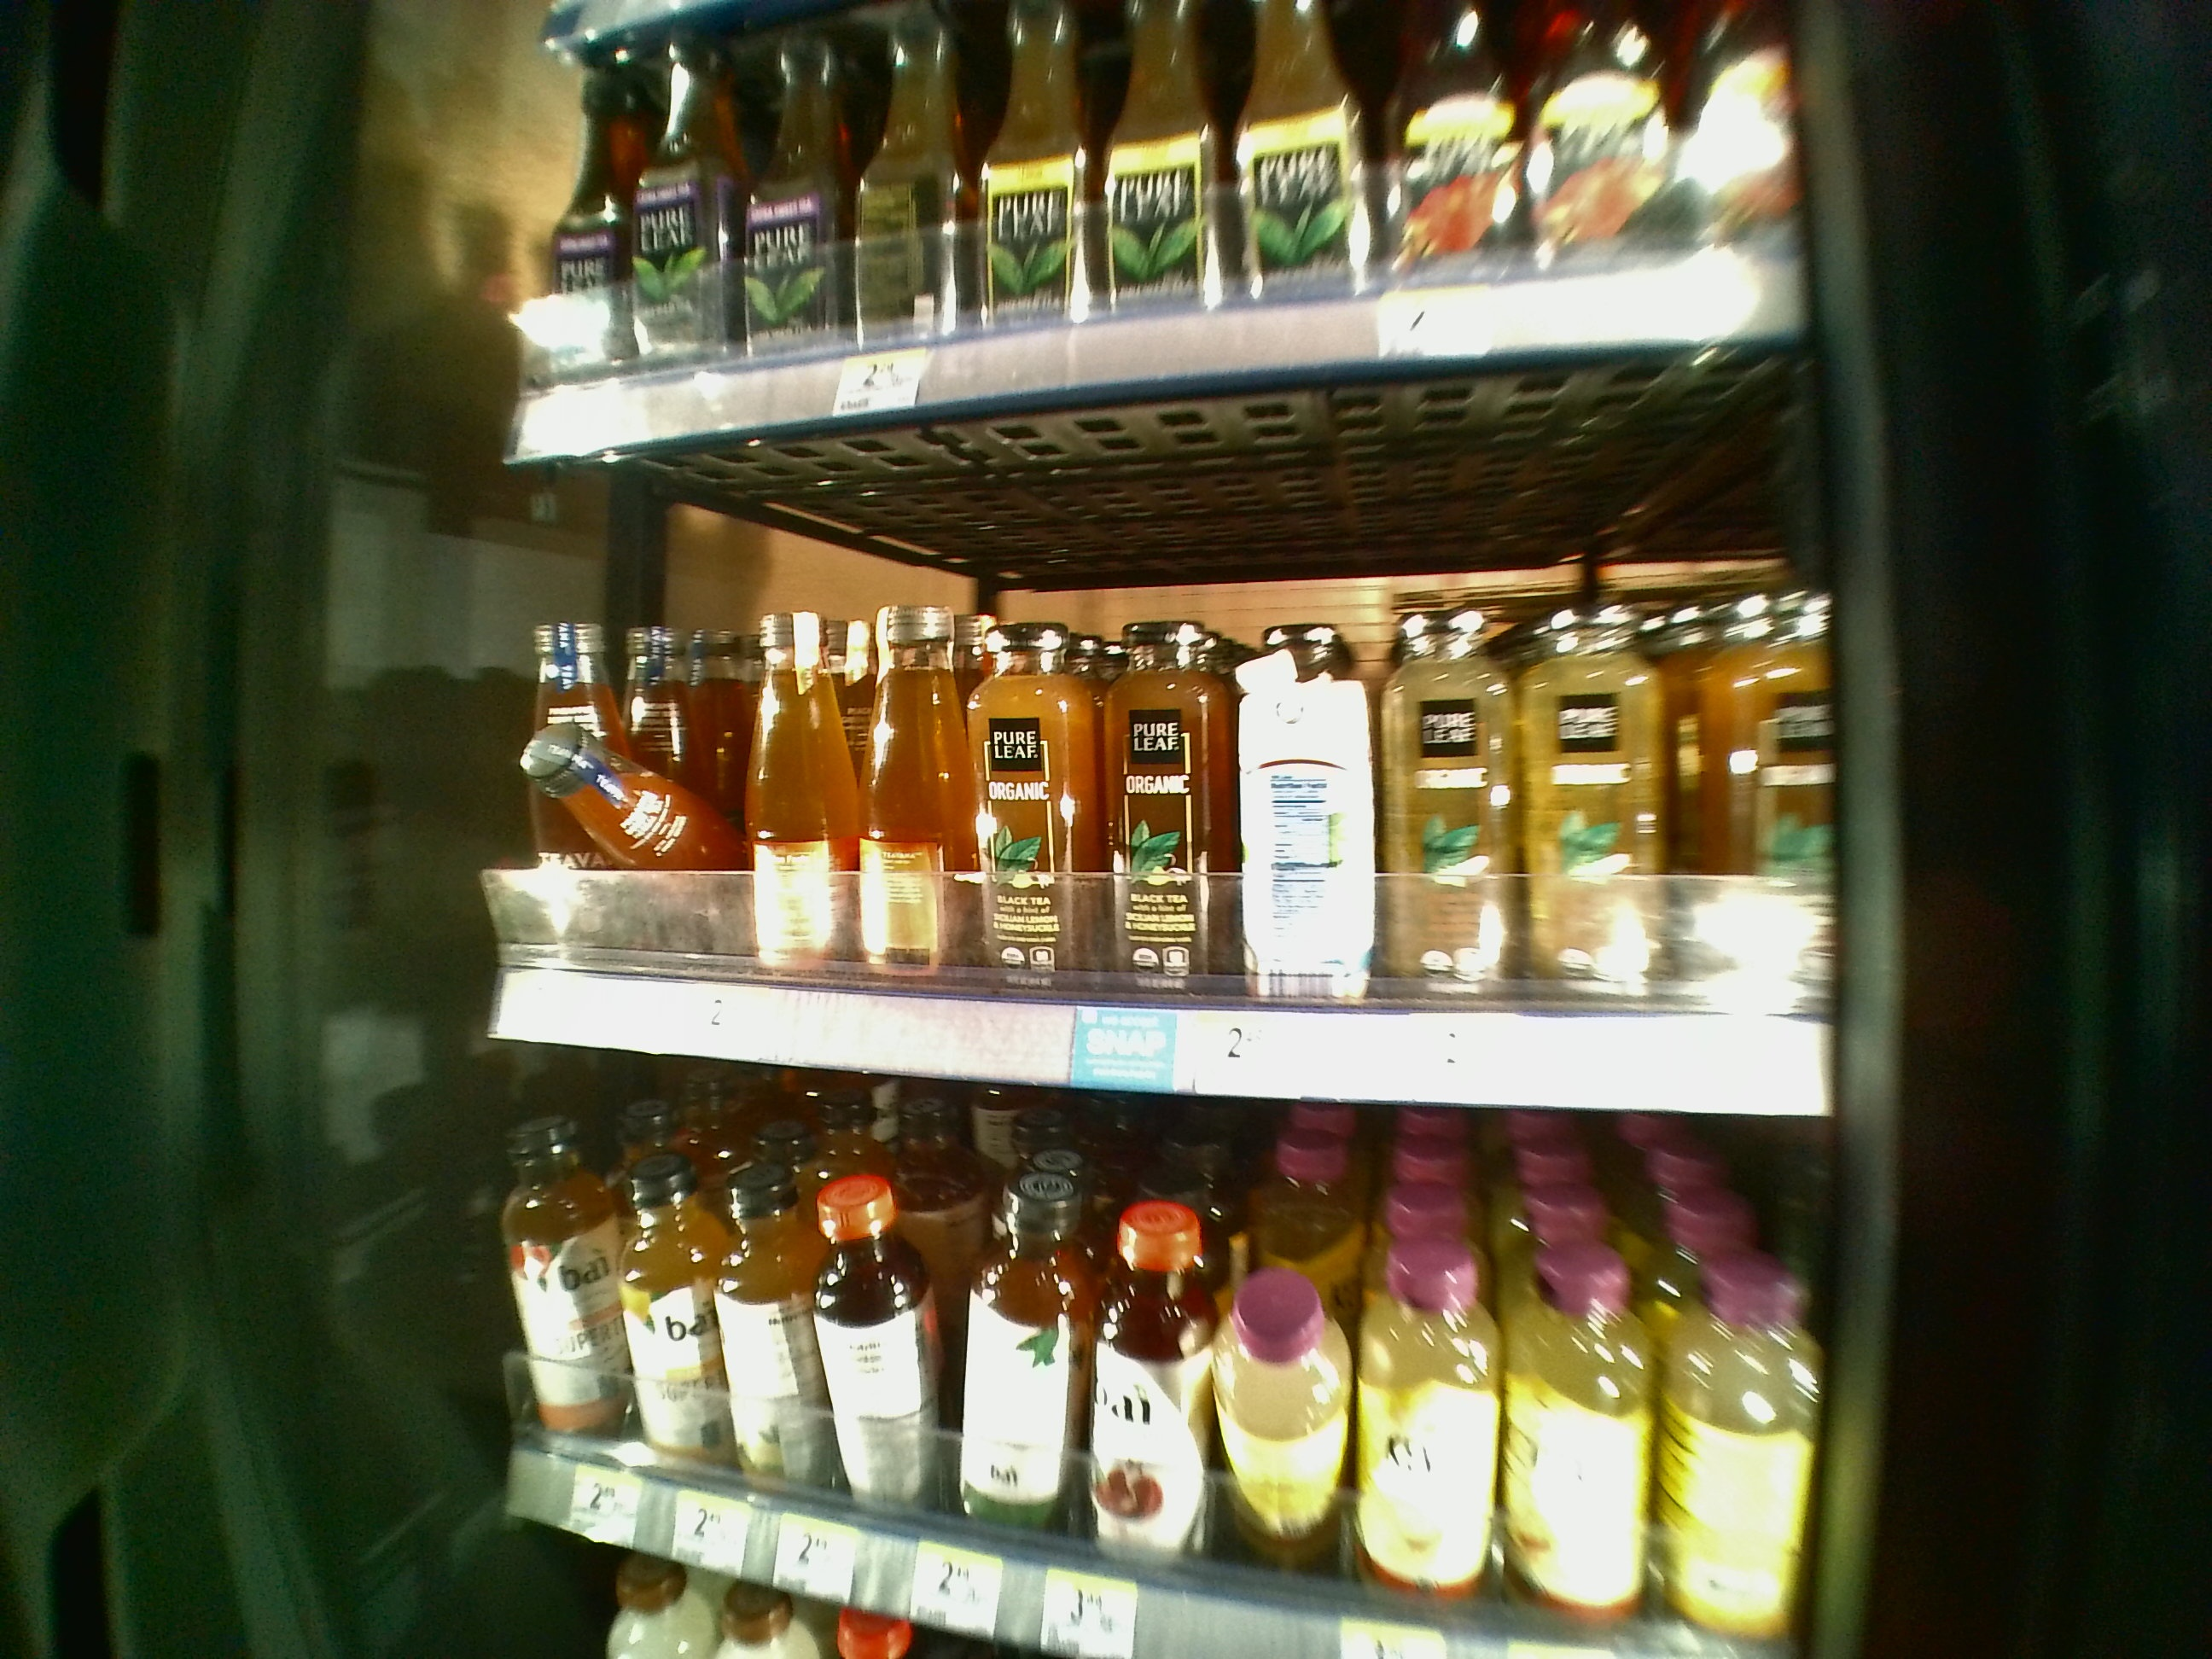shelf: (486, 336, 1822, 1119)
